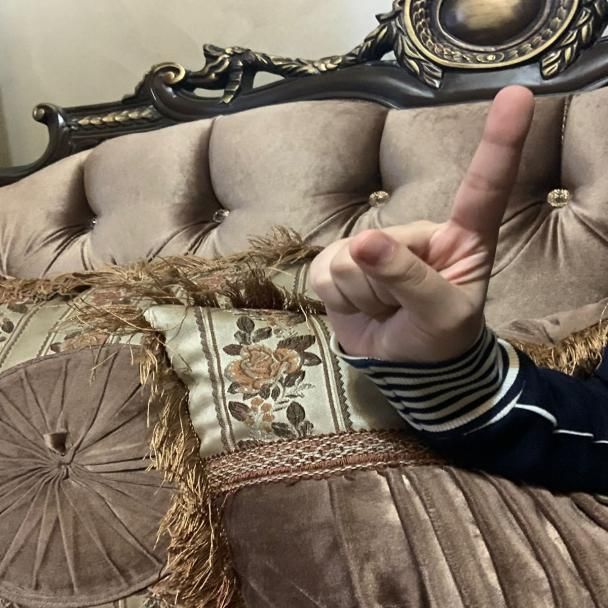one: (292, 72, 542, 400)
